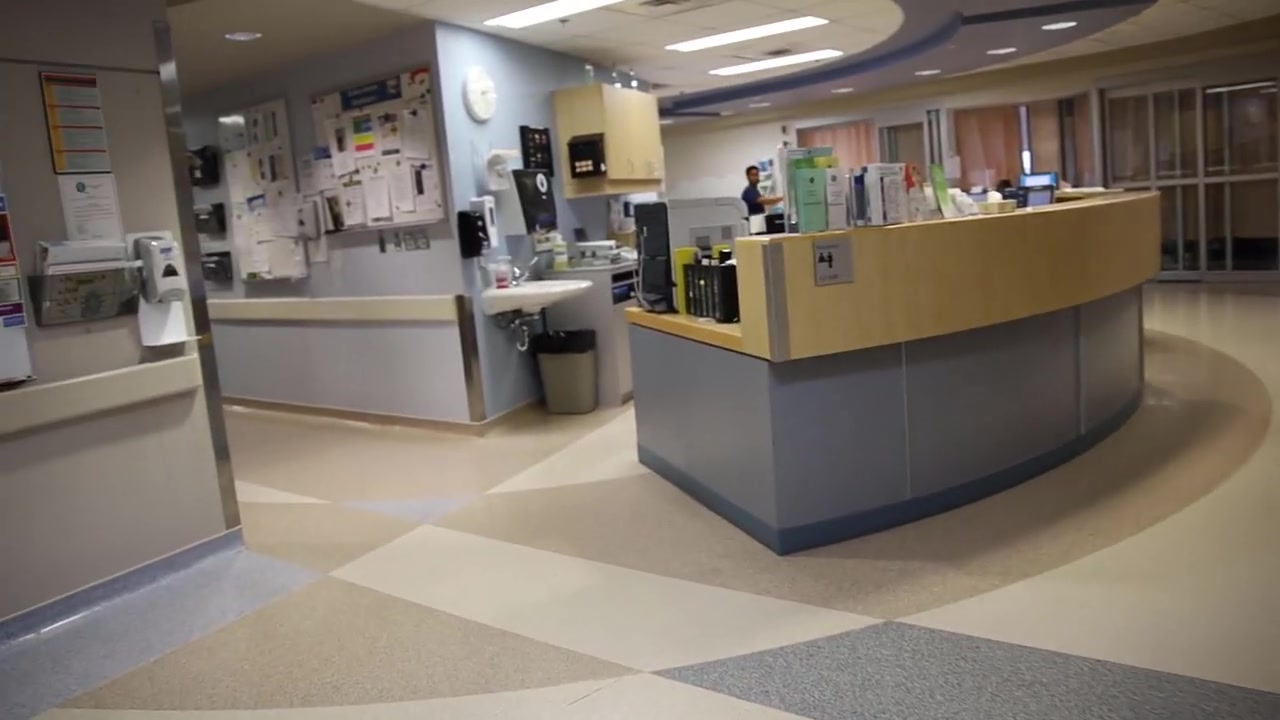cabinet: (553, 83, 672, 203)
computer: (513, 169, 557, 233)
counter: (627, 191, 1163, 560)
countertop: (733, 188, 1169, 256)
curtain: (951, 109, 1024, 185), (794, 124, 871, 167)
dispenser: (124, 230, 203, 349), (456, 211, 490, 259), (471, 198, 501, 248), (547, 233, 569, 273), (491, 255, 515, 290)
faucet: (510, 253, 543, 286)
hallway_assist_bar: (2, 355, 195, 420), (209, 291, 458, 323)
handle: (628, 158, 637, 175), (646, 159, 655, 176)
sink: (480, 275, 596, 318)
staff: (736, 164, 785, 217)
waste_bin: (528, 325, 600, 419)
